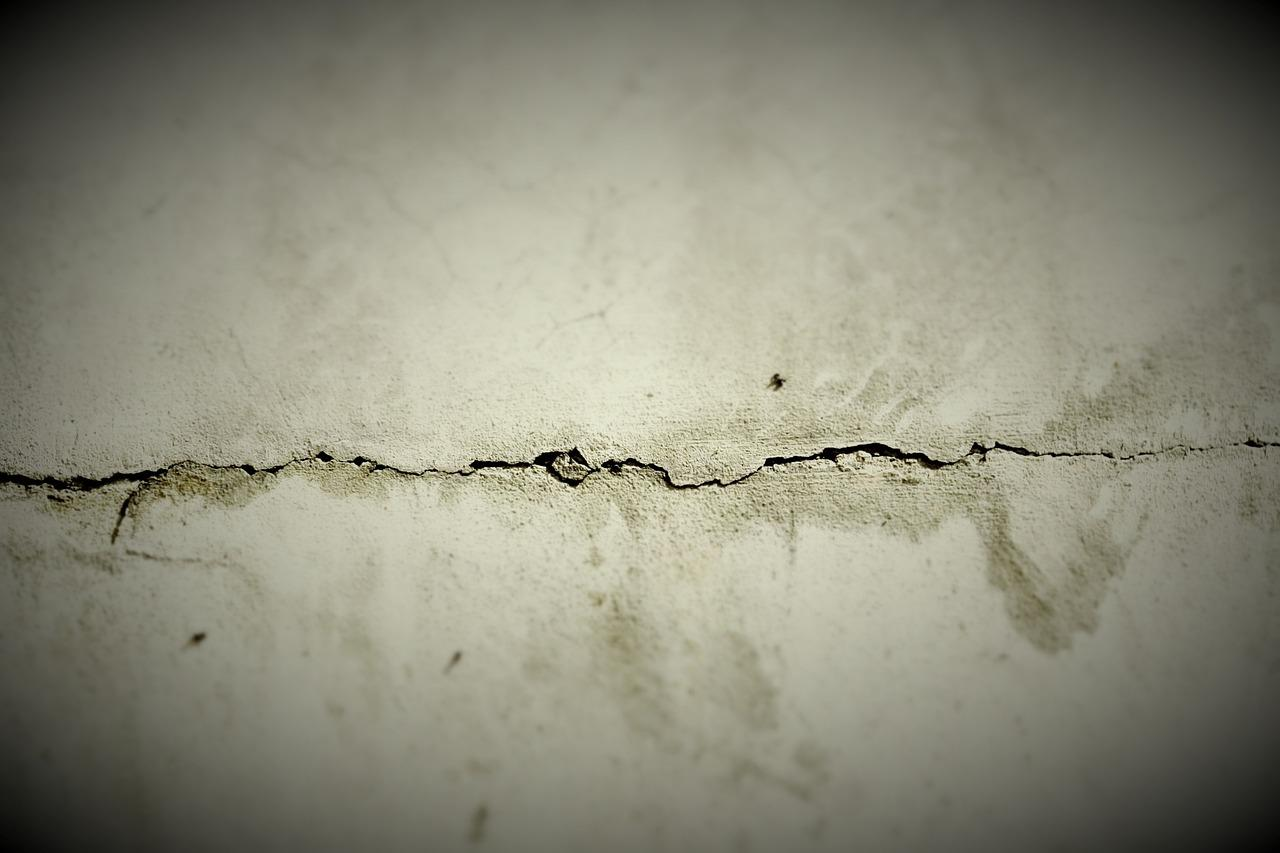Horizontal Settlement Crack: (1, 413, 1280, 530)
